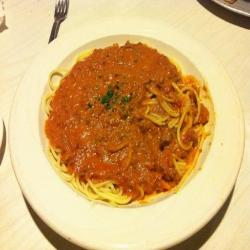bolonese_pasta: (40, 32, 210, 221)
